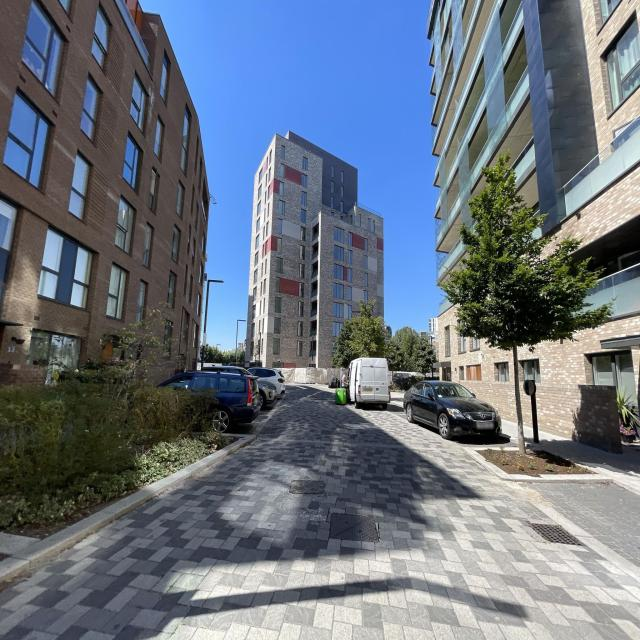car: (154, 368, 258, 432), (404, 379, 502, 441), (246, 366, 286, 406)
